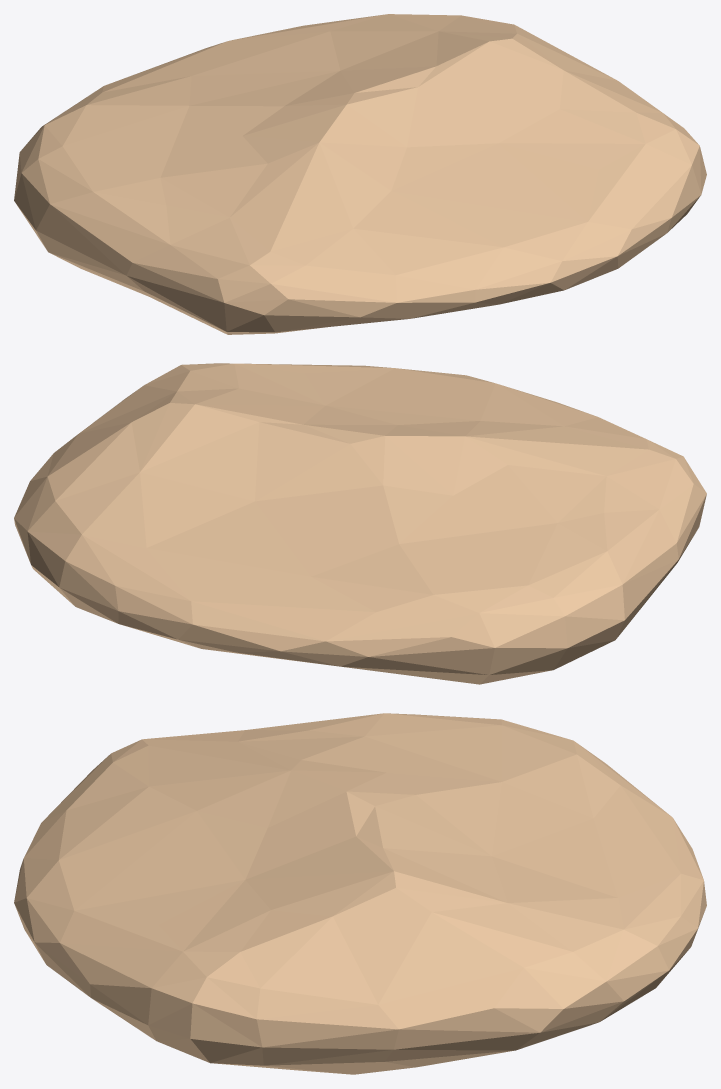
Rendered from Island1.fbx.
The picture shows the model from 3 angles, top to bottom: view 1: azimuth 30°, elevation 25°; view 2: azimuth 150°, elevation 25°; view 3: azimuth 270°, elevation 25°; orthographic projection. The views are drawn at different scales.
Visible parts, largest first — view 1: LowPolyRock; view 2: LowPolyRock; view 3: LowPolyRock.
Boxes of the visible parts, x1=… form: LowPolyRock: x1=14, y1=14, x2=706, y2=334; LowPolyRock: x1=14, y1=363, x2=706, y2=684; LowPolyRock: x1=14, y1=713, x2=706, y2=1074.
Bounding box in the file's own units: 2128 × 599 × 2052.
